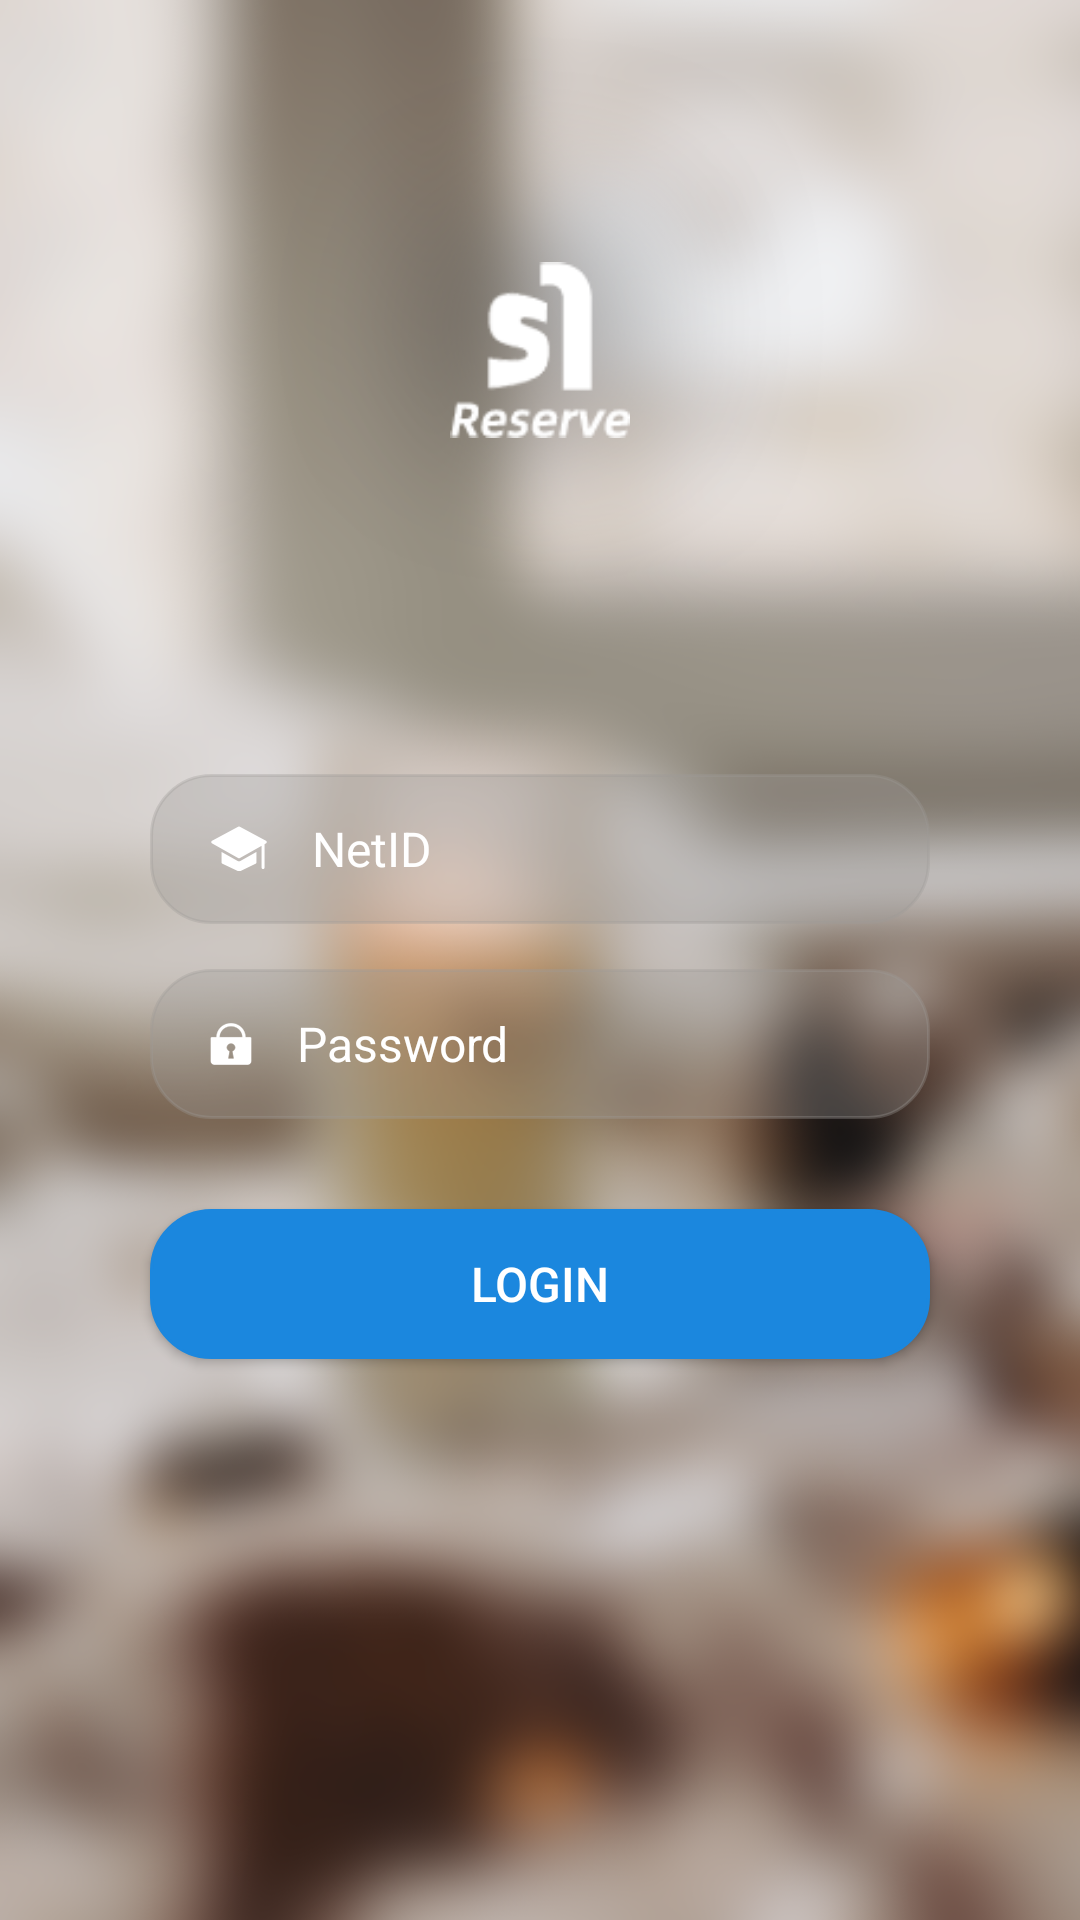

Where to tap for icons on this 1080 x 1920 app screen, as point (x, y):
sign cipher: point (231, 1044)
